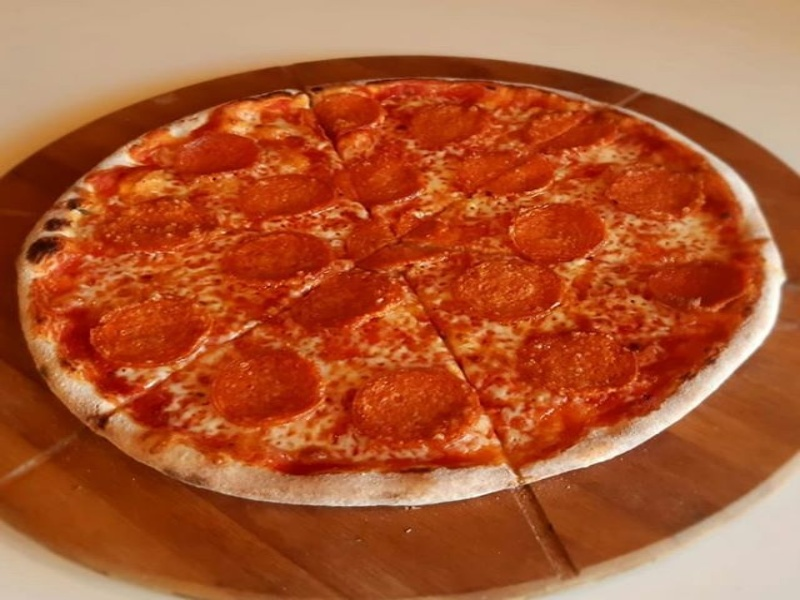peperoni: (347, 368, 479, 448), (212, 348, 329, 426), (90, 297, 212, 363), (518, 332, 638, 396), (450, 259, 567, 315), (508, 201, 611, 259), (343, 213, 446, 271), (223, 231, 330, 286), (650, 256, 753, 313), (601, 164, 701, 222), (451, 147, 558, 200), (289, 272, 392, 325), (103, 197, 211, 247), (523, 106, 622, 153), (239, 174, 337, 219), (403, 104, 490, 149), (174, 132, 258, 177), (339, 161, 428, 203), (310, 92, 387, 134)
